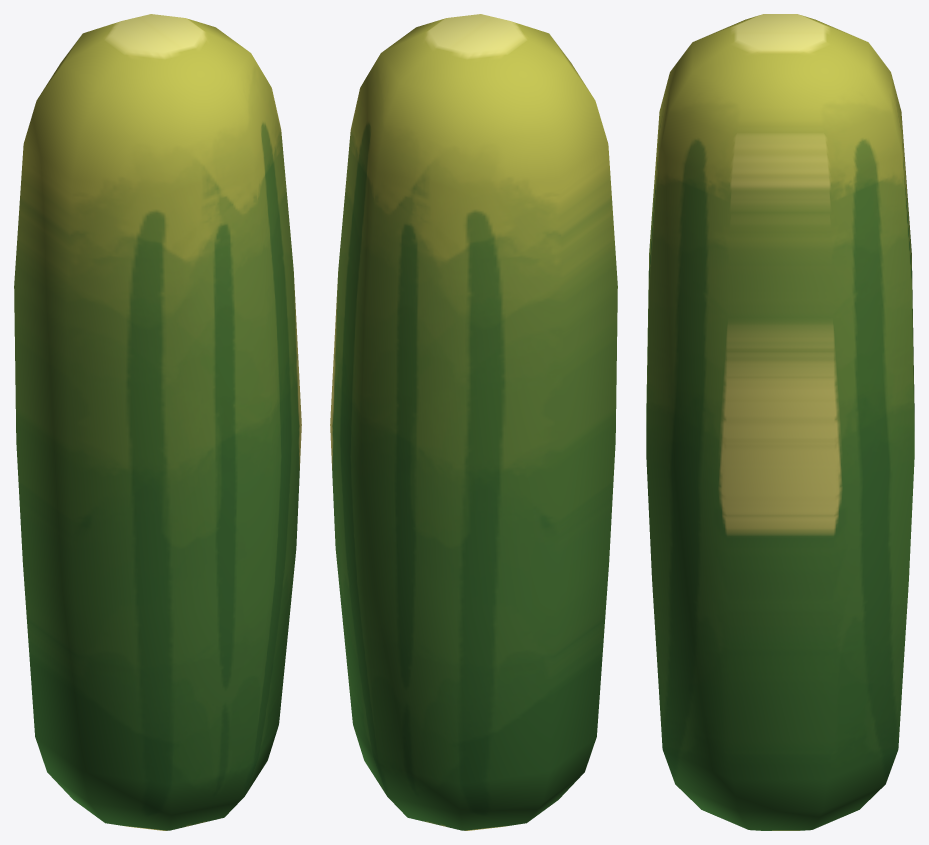
The model's file is Timun_Full.fbx.
The picture shows the model from 3 angles, left to right: view 1: azimuth 30°, elevation 25°; view 2: azimuth 150°, elevation 25°; view 3: azimuth 270°, elevation 25°; orthographic projection.
Visible parts, largest first — view 1: Plane.005; view 2: Plane.005; view 3: Plane.005.
Part boxes in pixels (x1,y1,x2,y2): Plane.005: [14, 14, 301, 830]; Plane.005: [330, 14, 617, 830]; Plane.005: [646, 14, 914, 830].
Size of the model in its own units: 9.29 by 9.19 by 29.52.
Materials: 1 (1 with a texture image).
